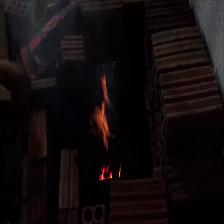fire: (94, 75, 110, 150)
